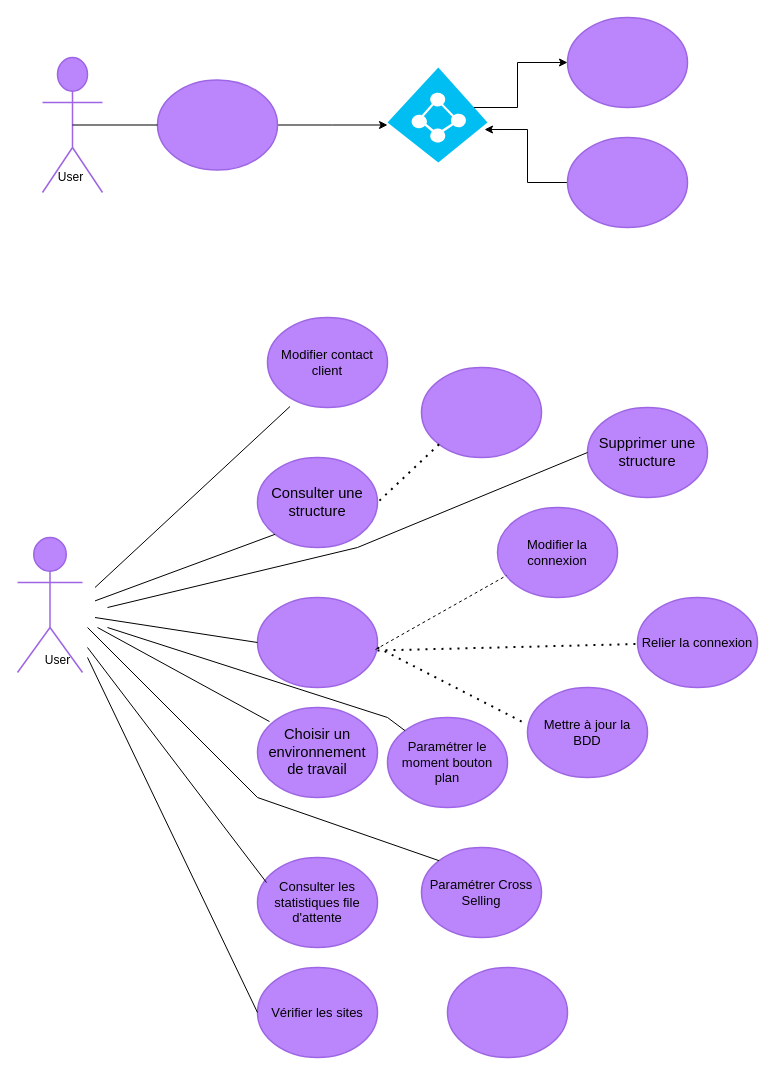
Some shapes in this 776 by 1076 pixel diagram are drawn without their labels. The shapes that lost their labels are listed below. From the top down, each one's centre as x and y in pixels, then its label:
At pixel 627 62: "Vérif mdp".
At pixel 217 124: "Login".
At pixel 627 182: "Retour Erreur".
At pixel 481 412: "Mettre à jour une structure".
At pixel 317 642: "Créer une nouvelle structure".
At pixel 507 1012: "Metter à jour les CGV".
